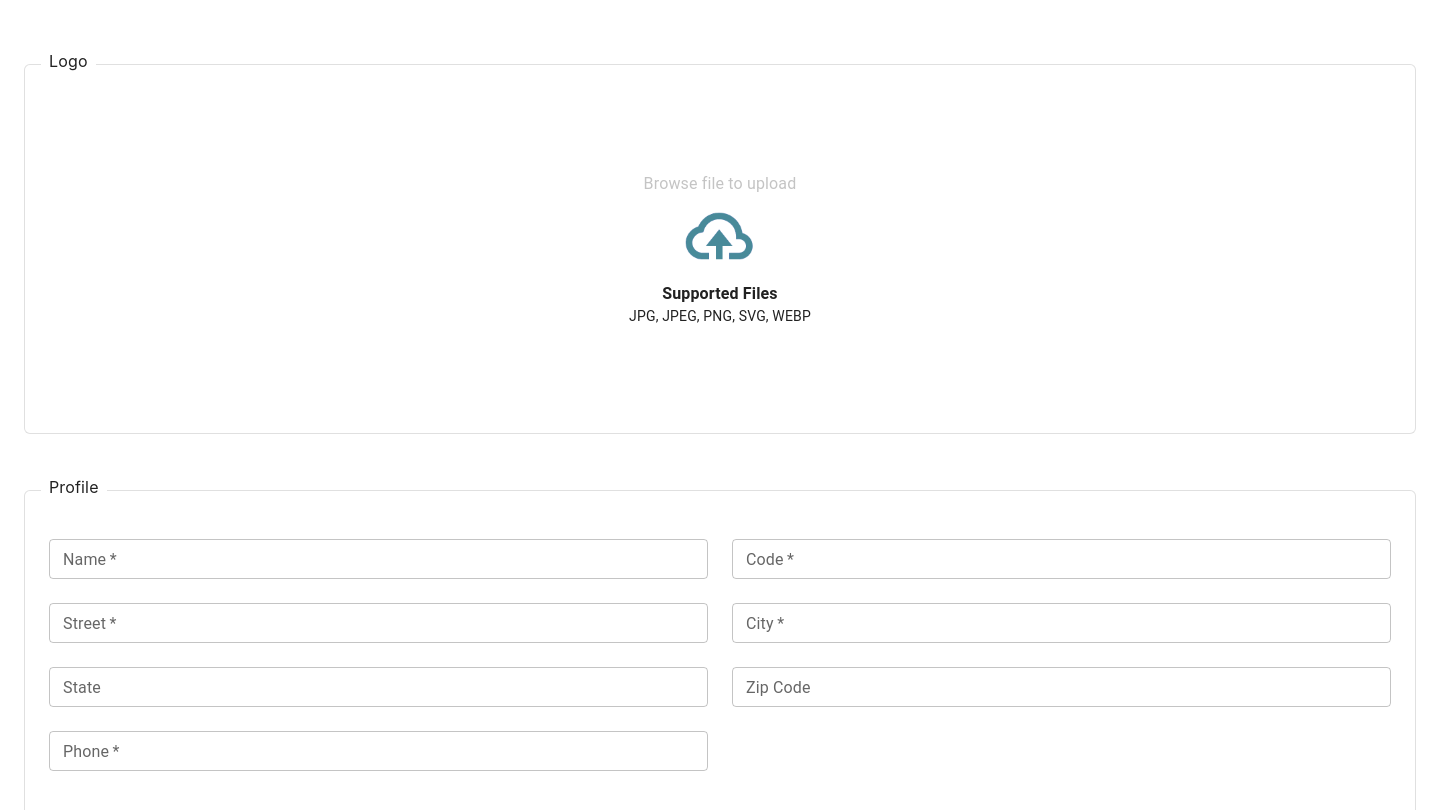
Scenario: AddUpdateEployer › should show validation errors when inputs are incorrect and input don't reset
Type "Abb" into the field labelled "Name *".
click(378, 559); type("Abb")  # box [49,539,708,579]
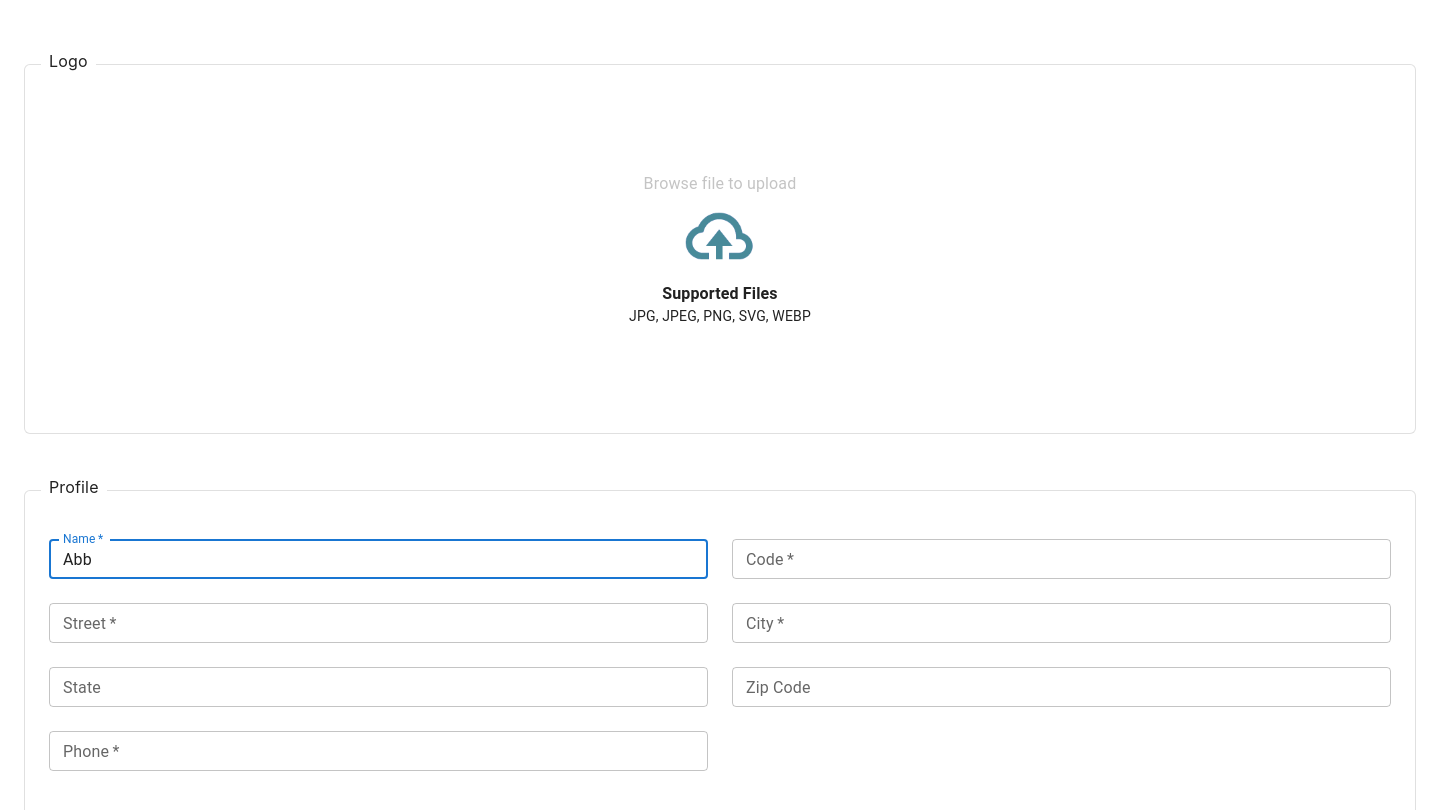
Type "222" into the field labelled "Zip Code".
click(1062, 687); type("222")  # box [732,667,1391,707]
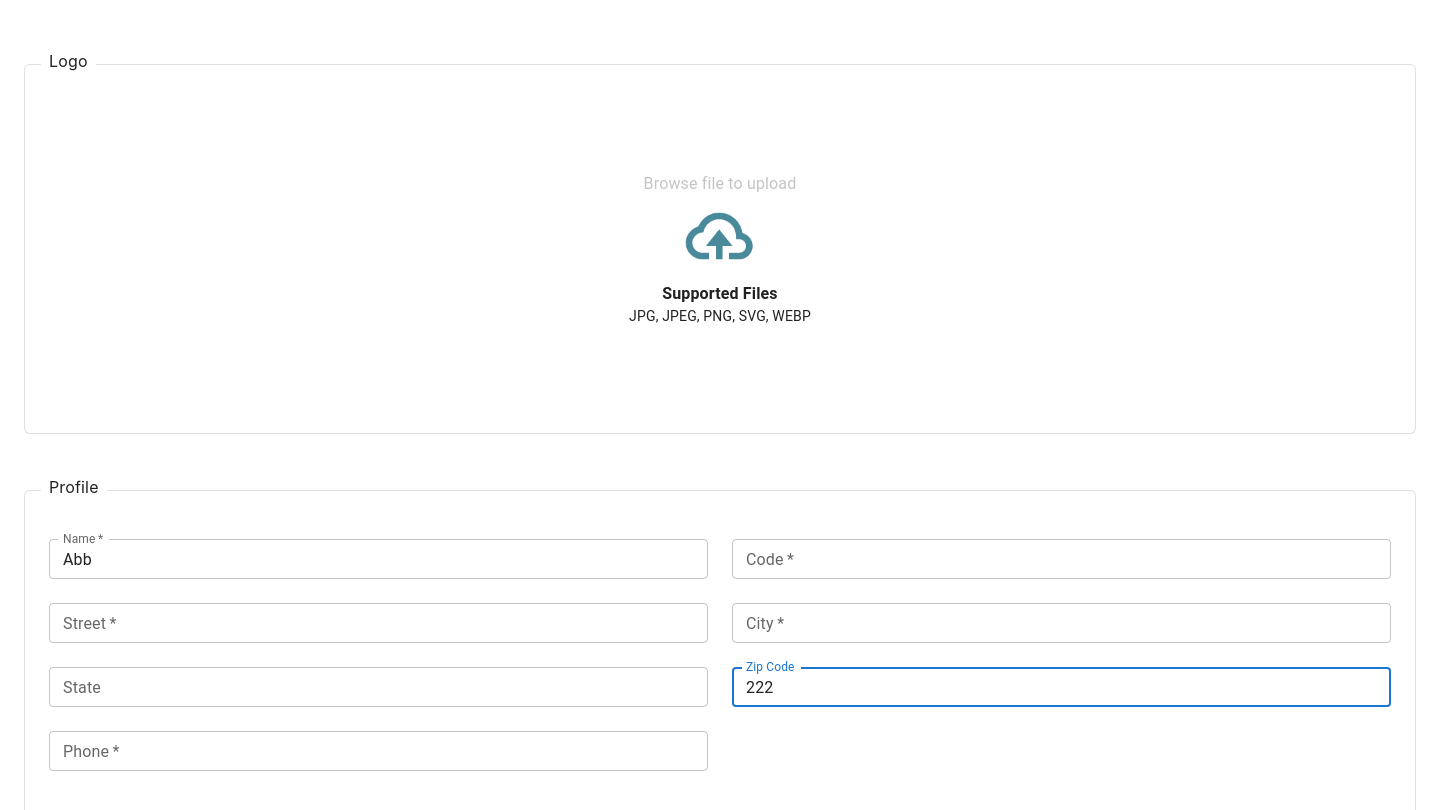
Type "debesu" into the field labelled "Street *".
click(378, 623); type("debesu")  # box [49,603,708,643]
(page scrolled)
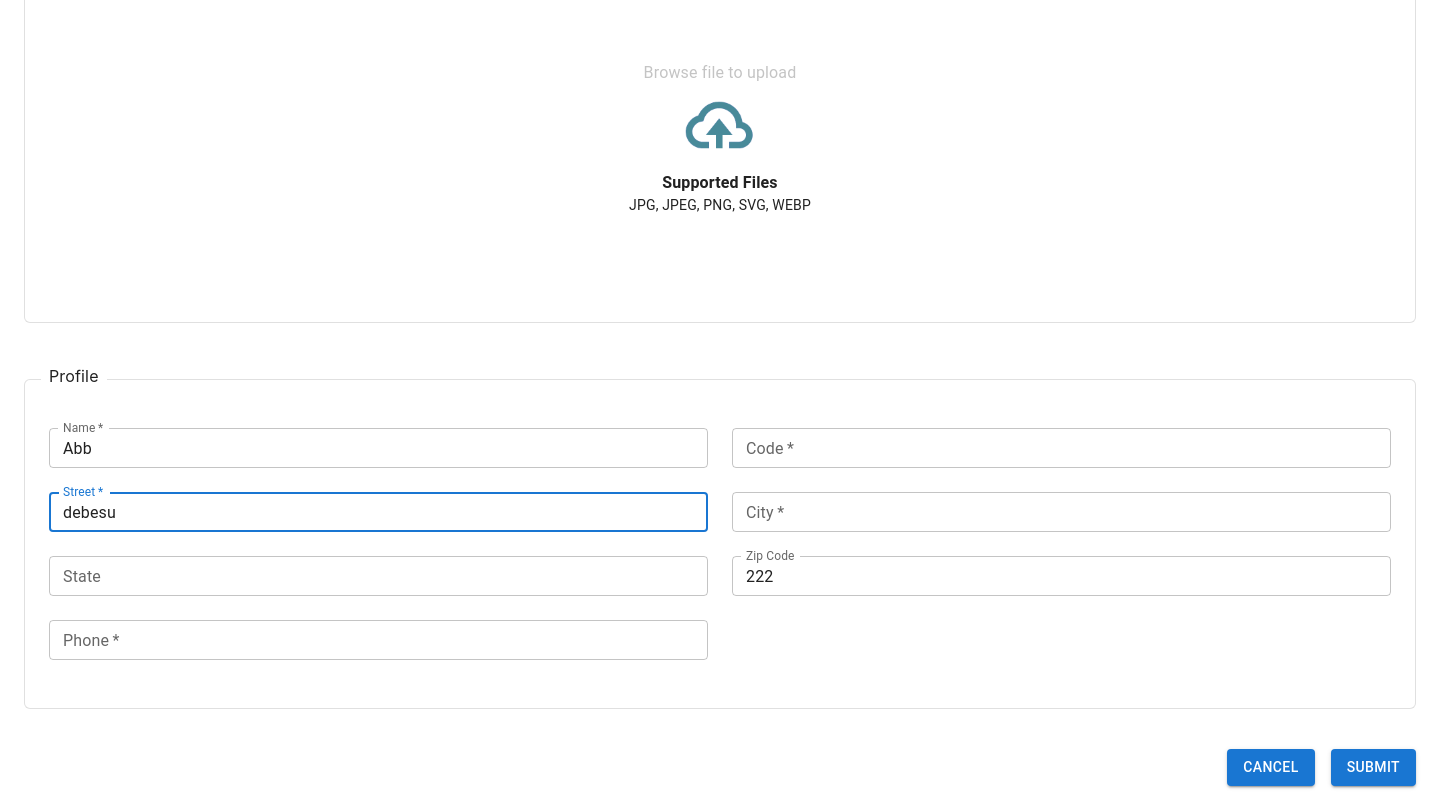
Click the button "Submit".
click(1373, 767)  # box [1331,749,1416,786]
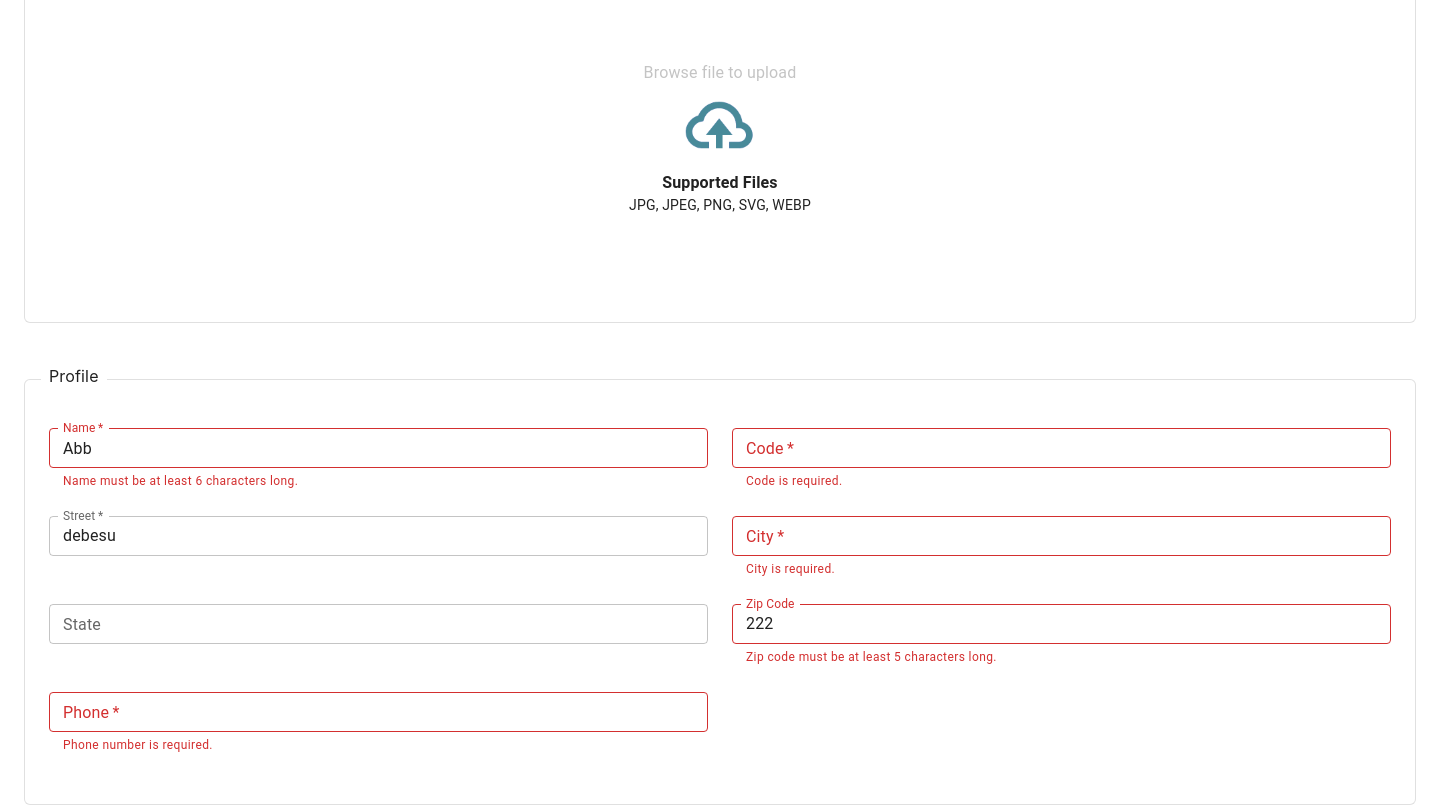
Check: the text "Name must be at least 6 characters long." is shown, box [63,474,298,488]
Check: the text "City is required." is shown, box [746,562,835,576]
Check: the text "Zip code must be at least 5 characters long." is shown, box [746,650,997,664]
